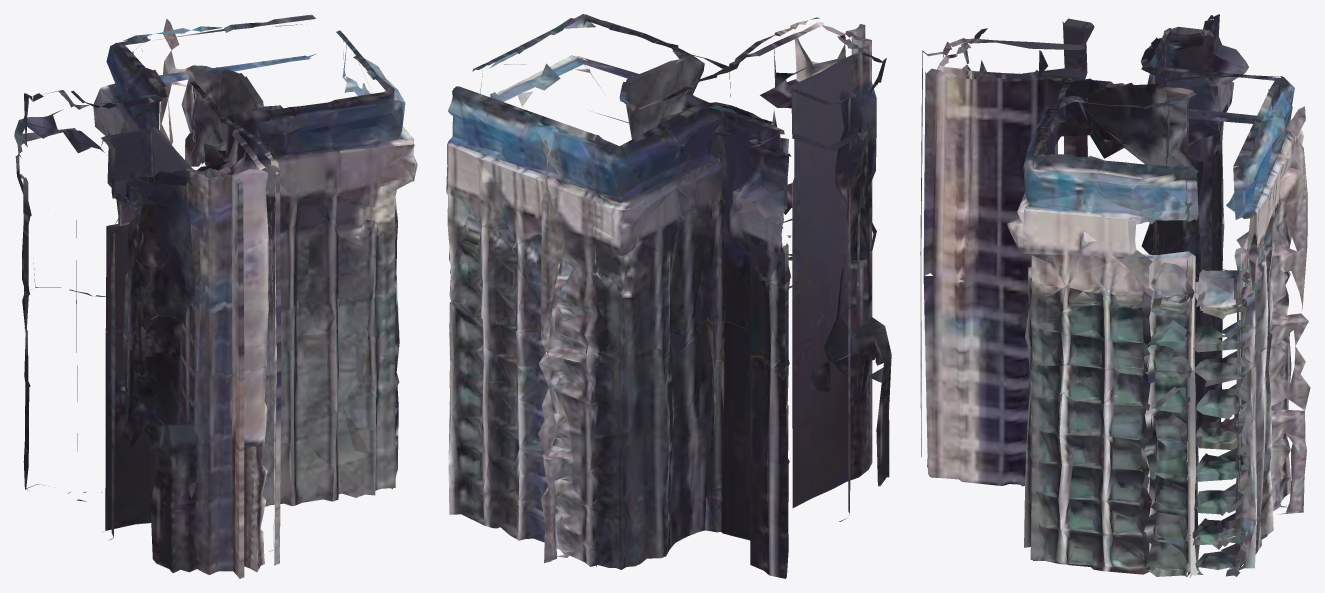
3 views of the same model, side by side, from view 1: azimuth 30°, elevation 25°; view 2: azimuth 150°, elevation 25°; view 3: azimuth 270°, elevation 25° (orthographic). The views are drawn at different scales.
Parts seen in each view (by area): view 1: Mesh_0; view 2: Mesh_0; view 3: Mesh_0.
Boxes of the visible parts, x1,y1,x2,y2 form: Mesh_0: (14, 14, 417, 578); Mesh_0: (446, 14, 891, 578); Mesh_0: (920, 14, 1310, 578).
Size of the model in its own units: 30.85 by 37.4 by 31.99.
Materials: 2 (2 with a texture image).
